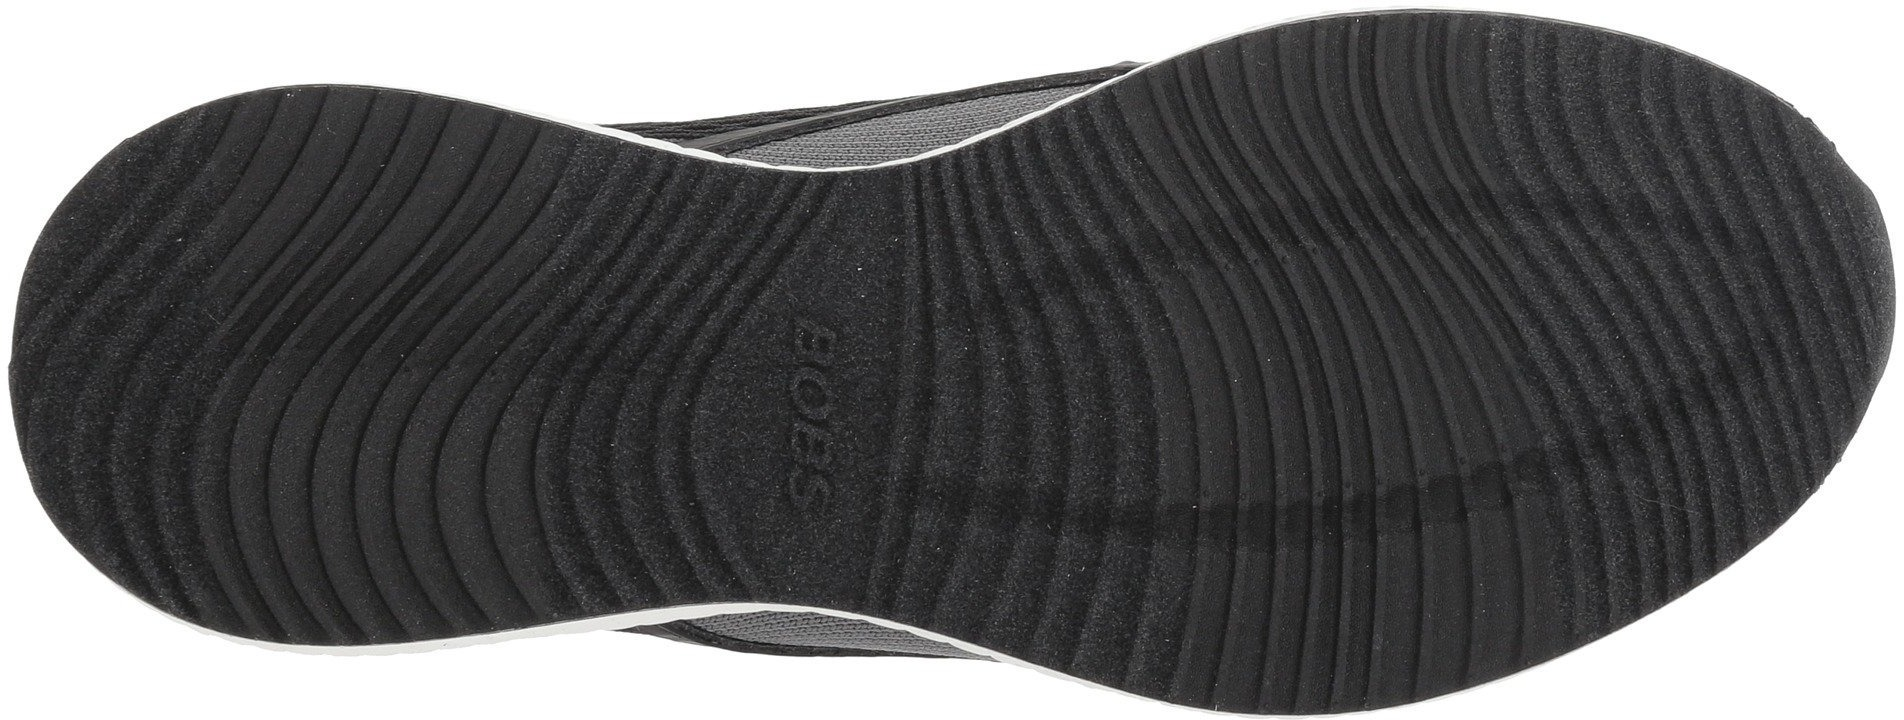line: (1094, 76, 1662, 610), (142, 137, 627, 610), (429, 229, 756, 543), (1608, 170, 1855, 421), (880, 392, 1098, 603), (44, 290, 229, 474), (948, 186, 1096, 330)
text: (764, 312, 875, 423), (766, 415, 866, 520)
